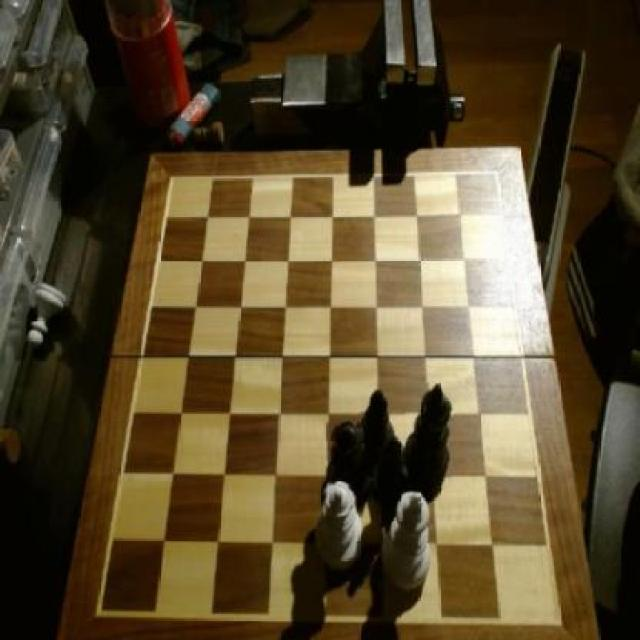bishop: (358, 390, 392, 472), (374, 449, 411, 523)
black-bishop: (403, 383, 454, 489)
black-pawn: (328, 420, 369, 516)
white-bishop: (385, 492, 437, 593)
white-pawn: (318, 480, 370, 580)
